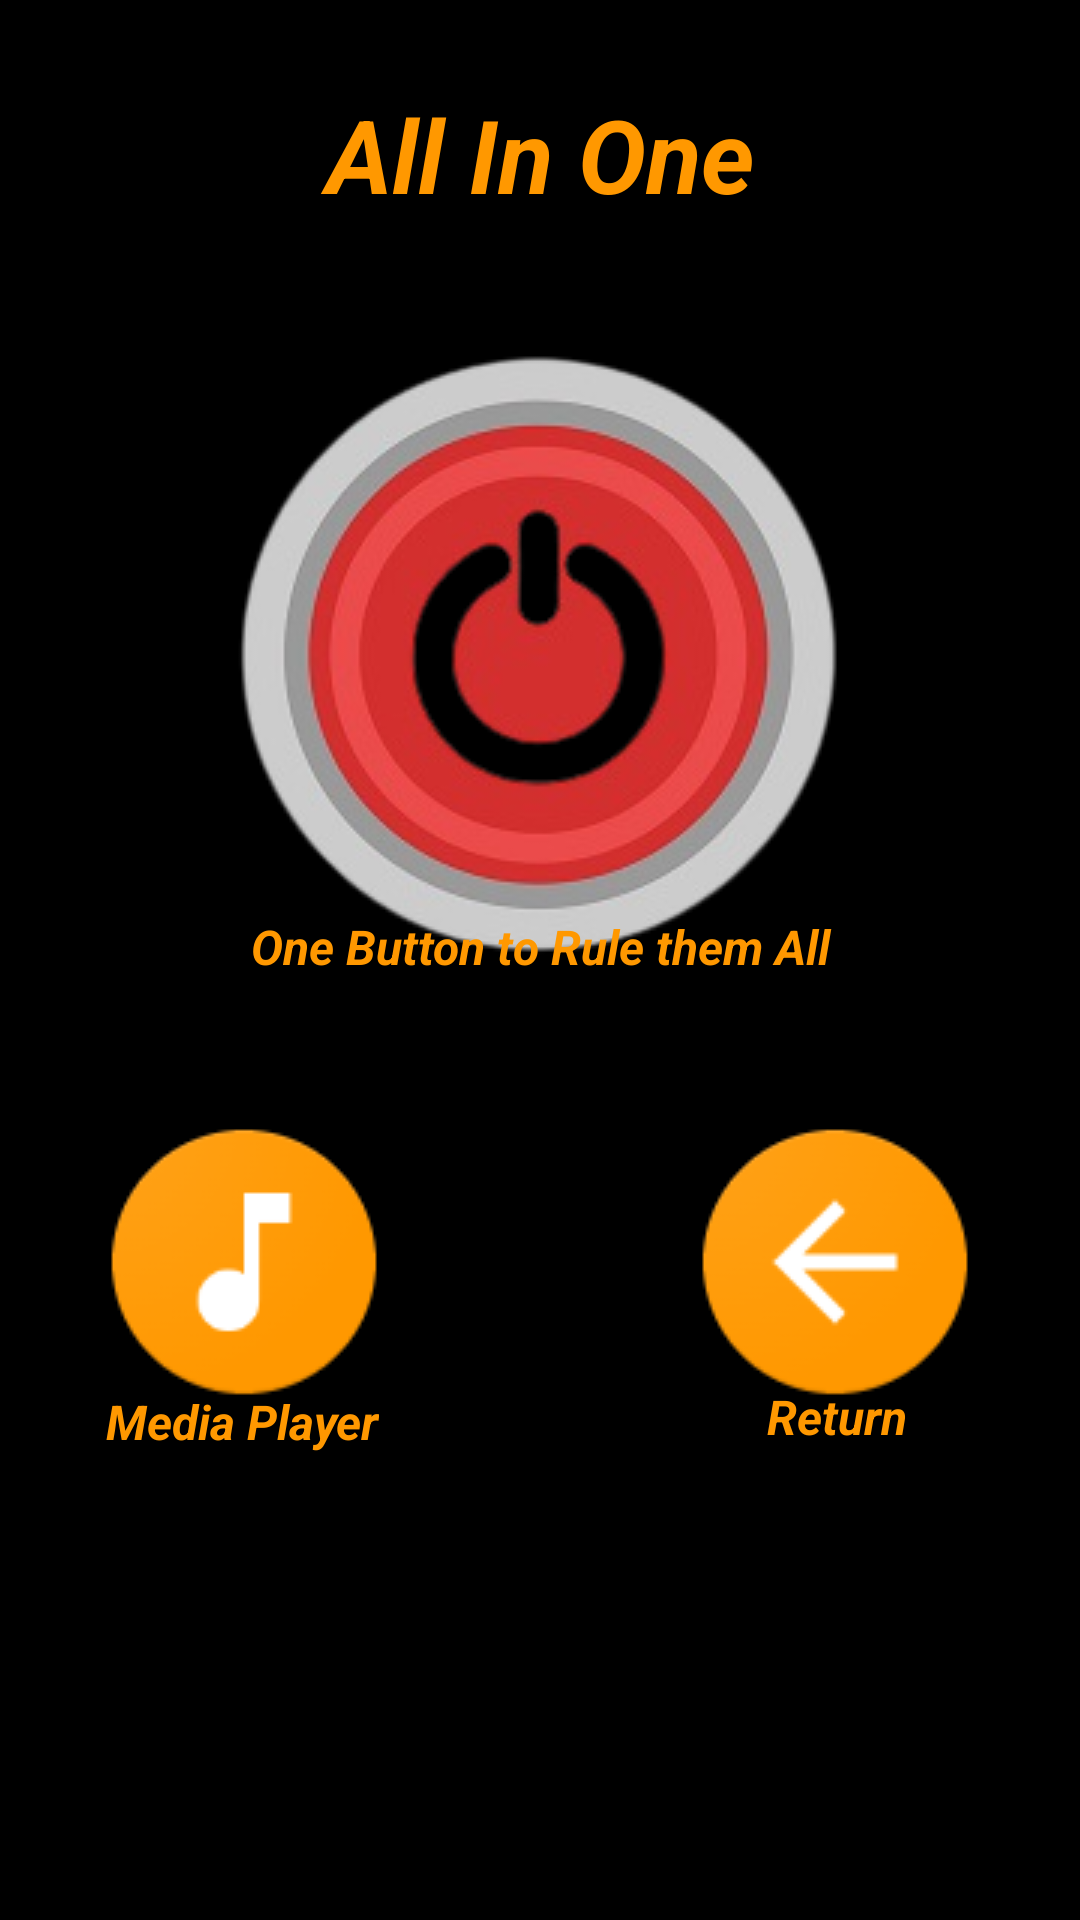

Named icons in this screenshot (1080px x 1920px) and their centers, [x,y]:
ply: [244,1262]
